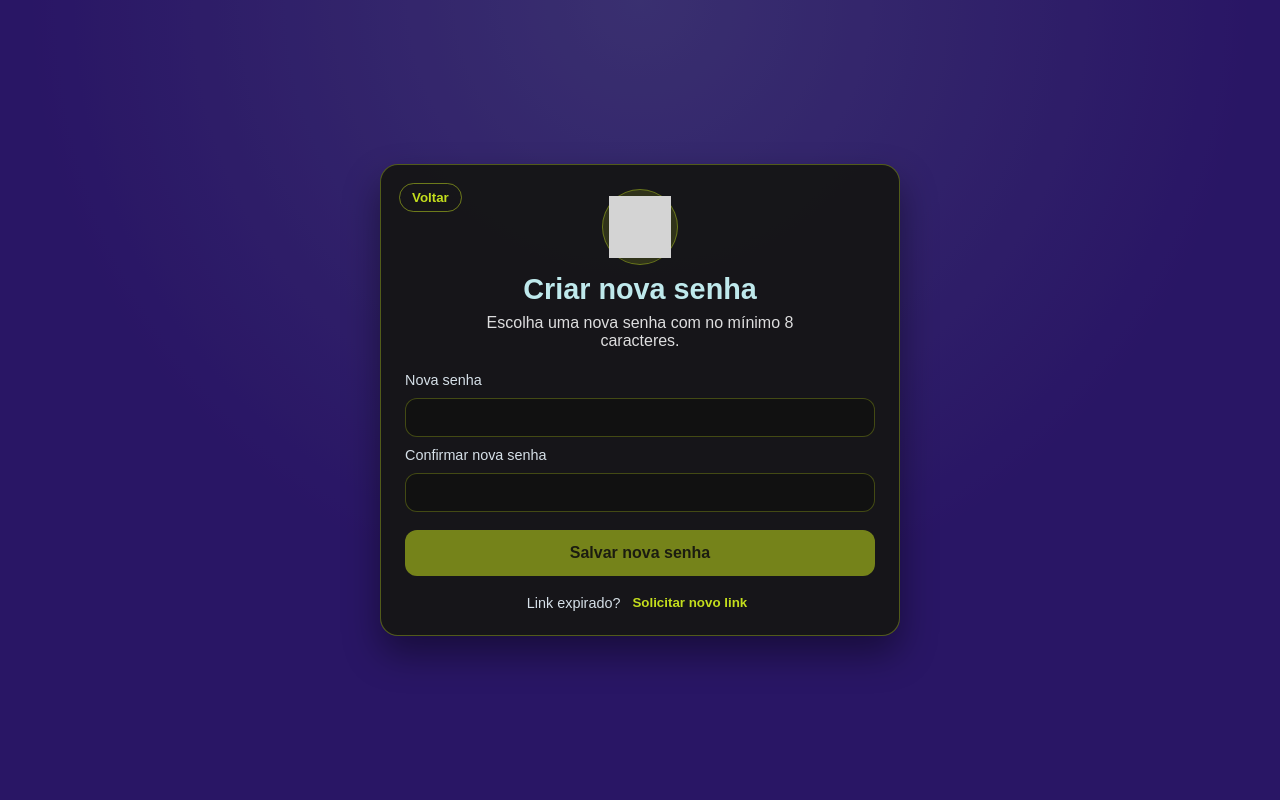
ResetPasswordScreen › rejects a confirmation that does not match
Type "novaSenha123" into the password field labelled "Nova senha" at (640, 418), box x1=405 y1=398 x2=875 y2=437
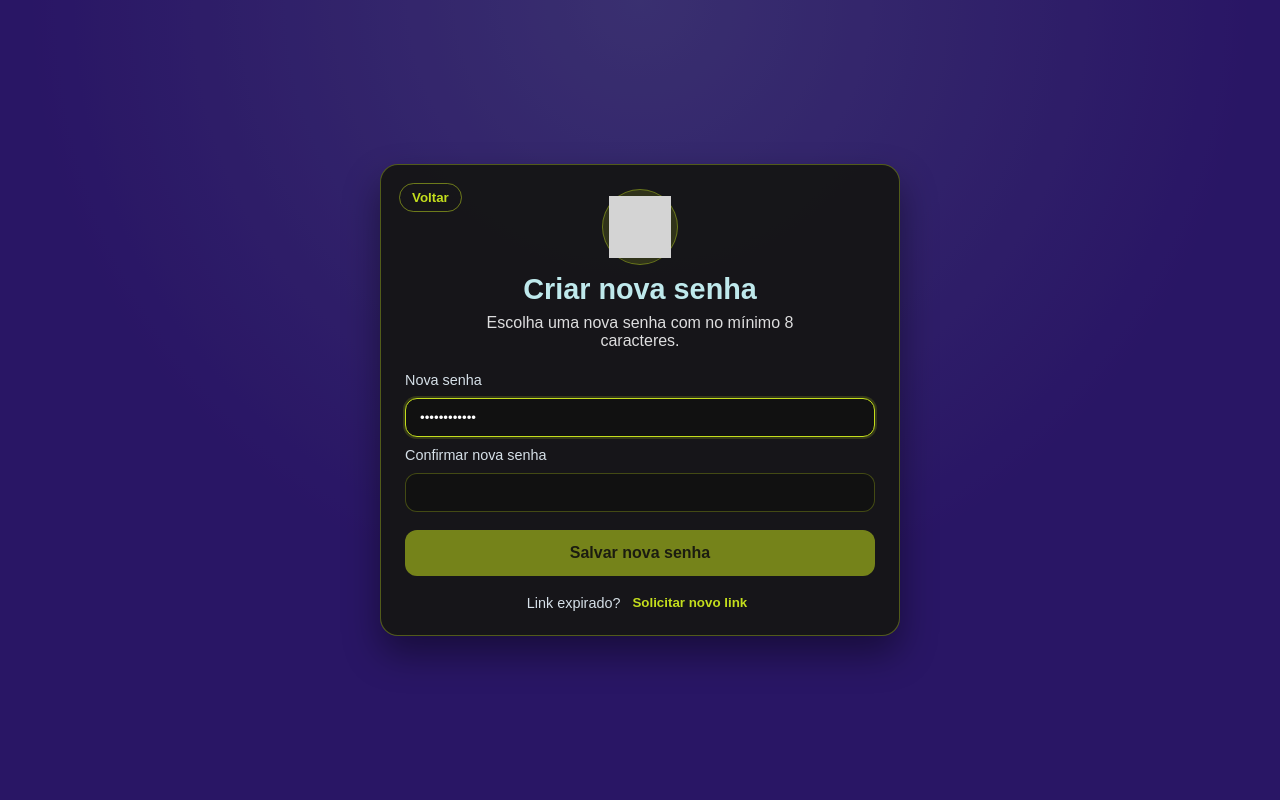
Type "outraSenha123" into the password field labelled "Confirmar nova senha" at (640, 492), box x1=405 y1=473 x2=875 y2=512
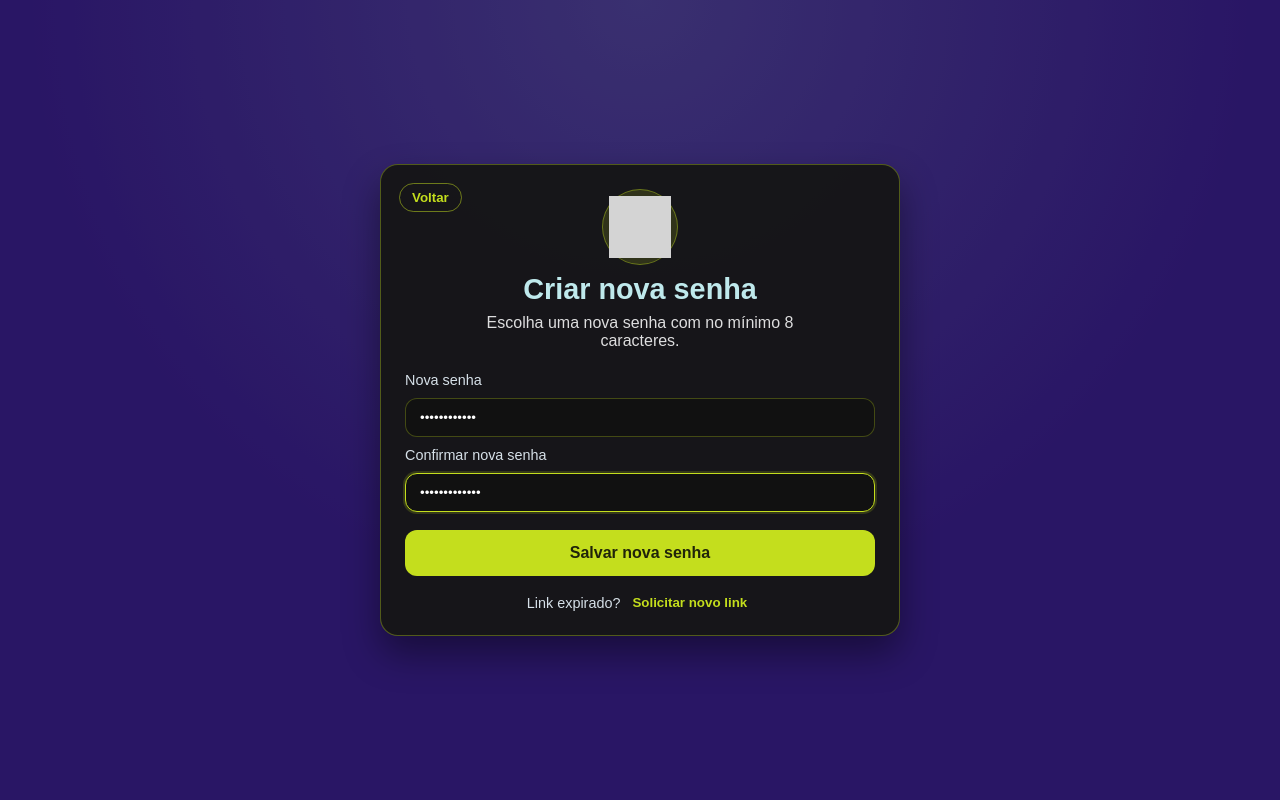
Click the button "Salvar nova senha" at (640, 553), box x1=405 y1=530 x2=875 y2=576
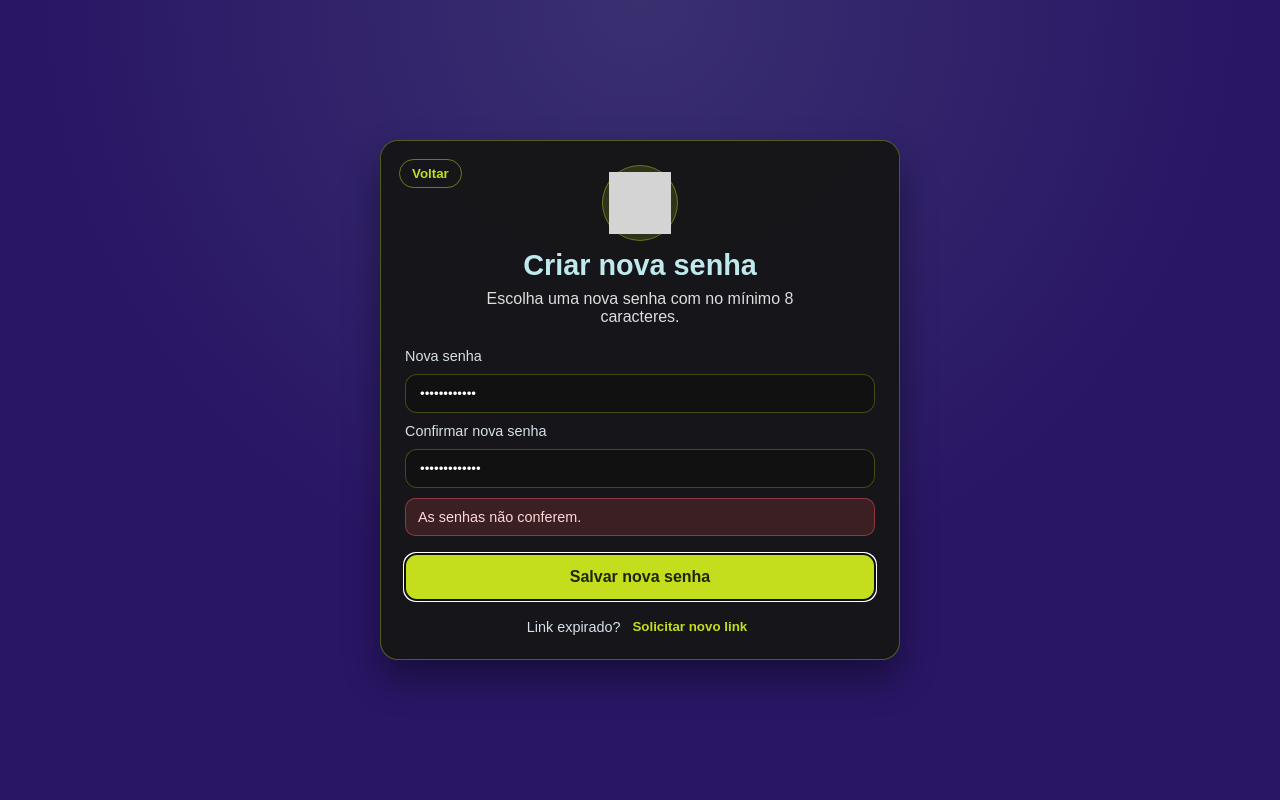
Expected: the text "As senhas não conferem." is shown, x1=405 y1=498 x2=875 y2=536
